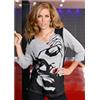maglia: (17, 25, 84, 97)
